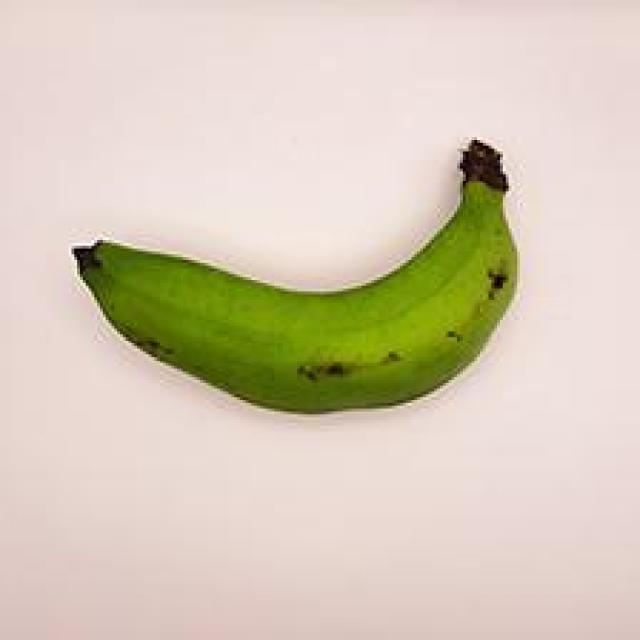Raw: (49, 108, 536, 427)
